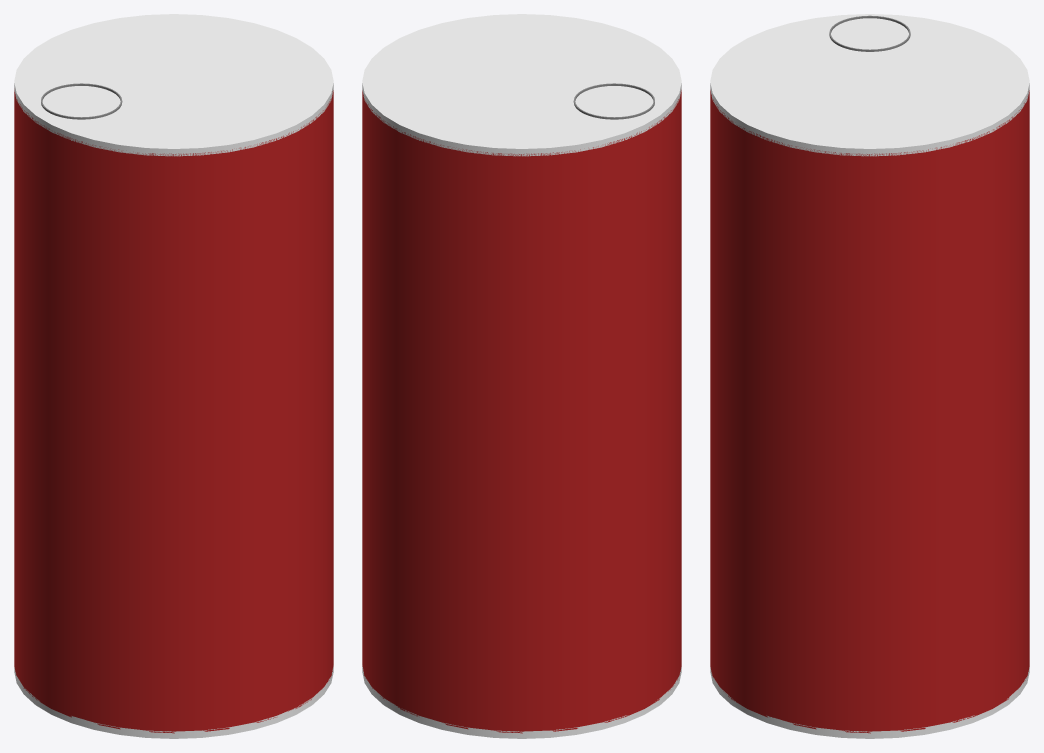
Rendered from Coke.fbx.
The picture shows the model from 3 angles, left to right: view 1: azimuth 30°, elevation 25°; view 2: azimuth 150°, elevation 25°; view 3: azimuth 270°, elevation 25°; orthographic projection.
Parts seen in each view (by area): view 1: Coke; view 2: Coke; view 3: Coke.
Part boxes in pixels (box(x1,y1,x2,y2)): Coke: box(14, 14, 333, 738); Coke: box(362, 14, 681, 738); Coke: box(710, 14, 1029, 738).
Bounding box in the file's own units: 10.74 × 22 × 10.74.
